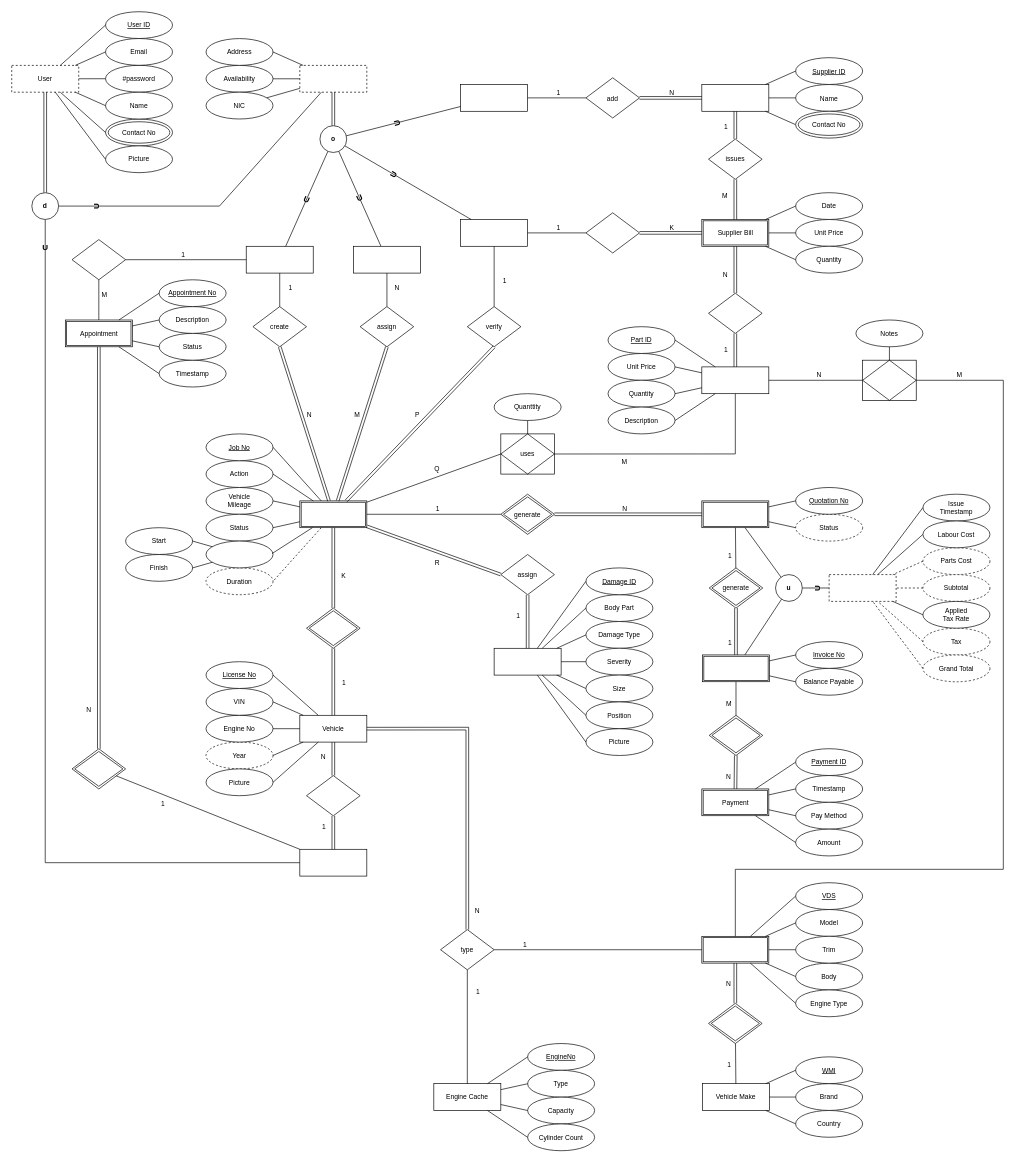
This 1016x1162 diagram has some shape labels left out. Each missing label, with the centre of its shape:
"Admin" goes at pixel 494 97.
"authorize" goes at pixel 612 232.
"Billable Document" goes at pixel 862 587.
"books" goes at pixel 98 768.
"Confirm" goes at pixel 98 259.
"fits" goes at pixel 889 380.
"for" goes at pixel 736 735.
"Front Desk" goes at pixel 279 259.
"has" goes at pixel 333 627.
"Invoice" goes at pixel 735 668.
"Job" goes at pixel 333 514.
"make" goes at pixel 735 1023.
"originate" goes at pixel 735 313.
"owns" goes at pixel 333 795.
"Parts" goes at pixel 735 380.
"Quotation" goes at pixel 735 514.
"Staff" goes at pixel 333 78.
"Supervisor" goes at pixel 494 232.
"Supplier" goes at pixel 735 97.
"Technician" goes at pixel 386 259.
"Timeline" goes at pixel 239 554.
"Vehicle Cache" goes at pixel 735 949.
"Vehicle Damage" goes at pixel 527 661.
"Vehicle Owner" goes at pixel 333 862.
